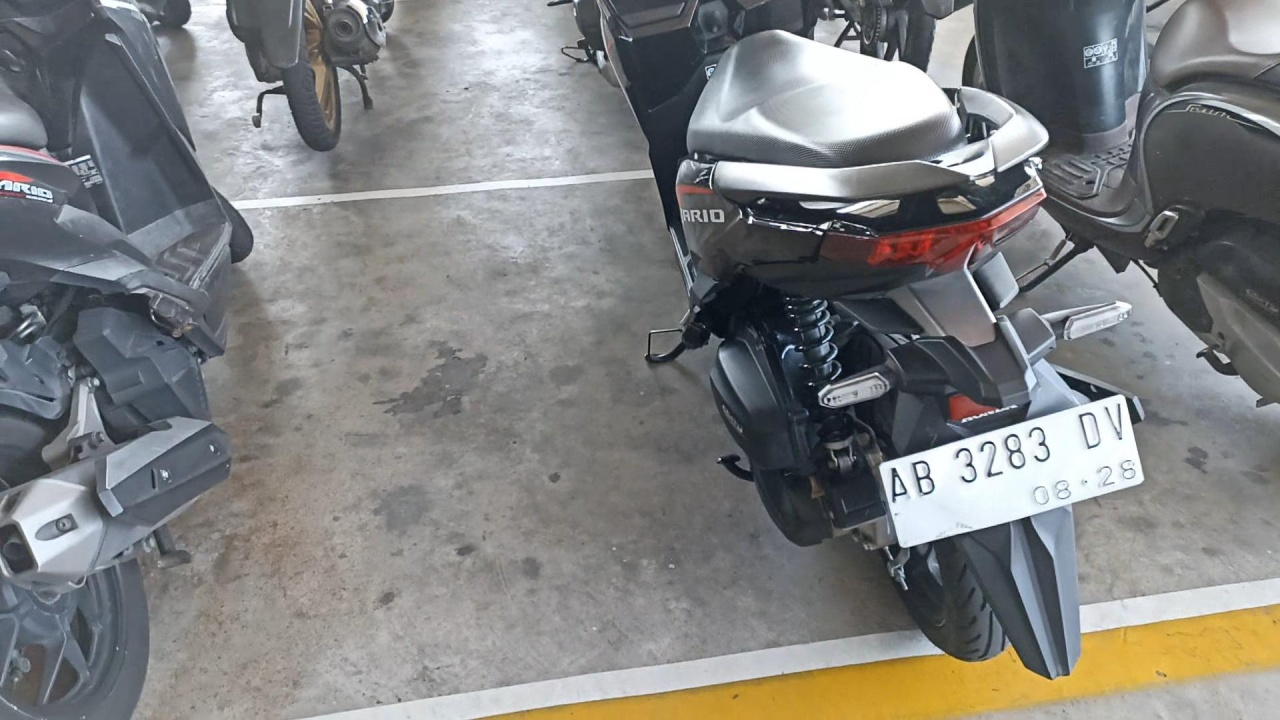plate: (880, 394, 1147, 551)
